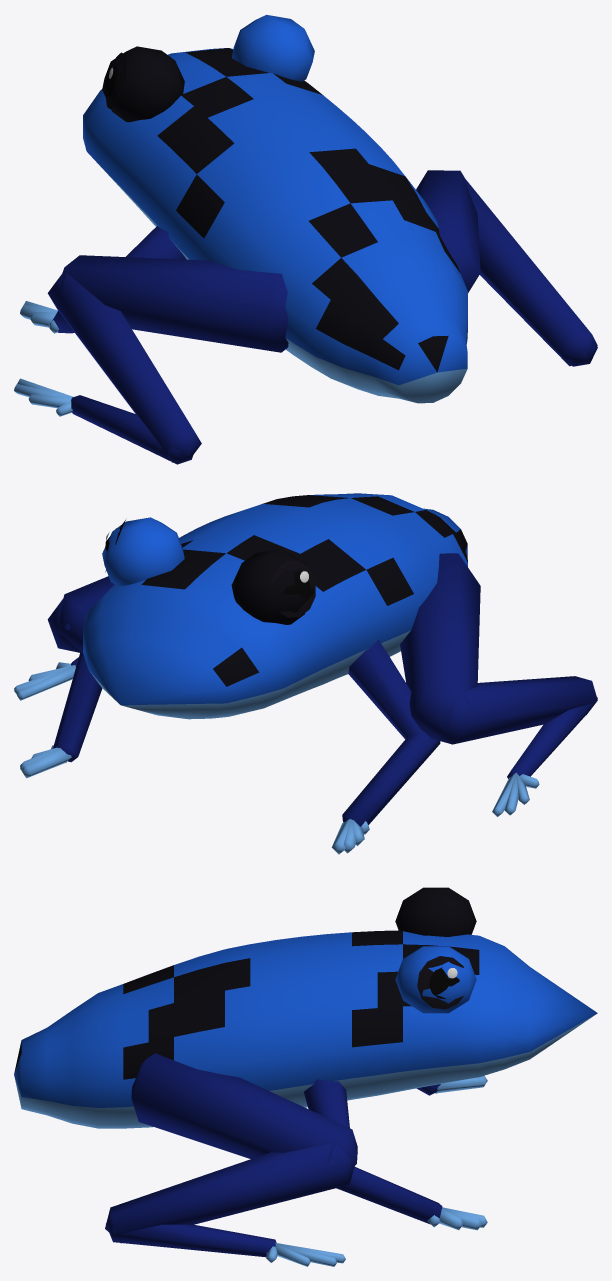
File: dart_frog.glb
The picture shows the model from 3 angles, top to bottom: view 1: azimuth 30°, elevation 25°; view 2: azimuth 150°, elevation 25°; view 3: azimuth 270°, elevation 25°; orthographic projection. The views are drawn at different scales.
Parts seen in each view (by area): view 1: dart_frog; view 2: dart_frog; view 3: dart_frog.
Part boxes in pixels (<box>): dart_frog: <box>14,14,597,464</box>; dart_frog: <box>14,493,597,854</box>; dart_frog: <box>14,887,597,1266</box>.
Bounding box in the file's own units: 1.42 × 0.7048 × 1.55.
